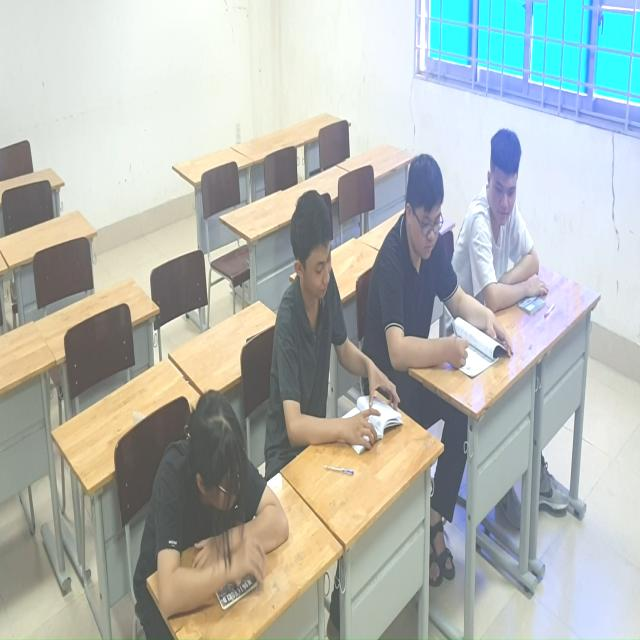read: (267, 185, 412, 506), (373, 178, 485, 425), (467, 127, 562, 330)
sleep: (118, 376, 293, 622)
